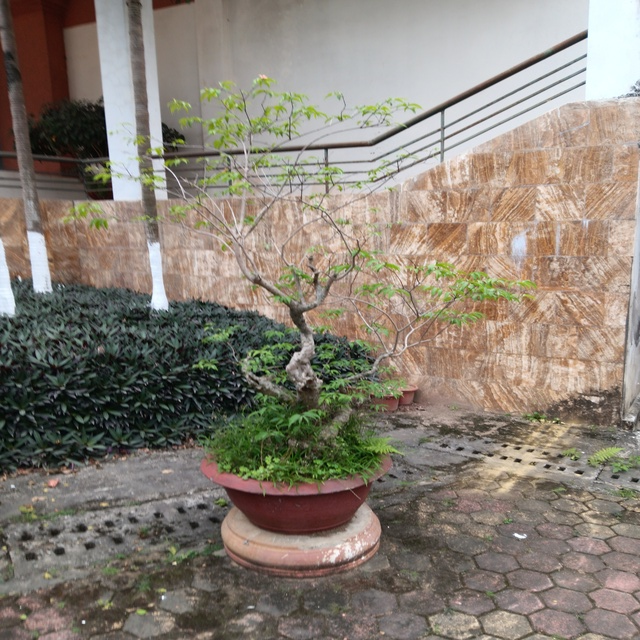caycanh: (114, 68, 496, 583)
